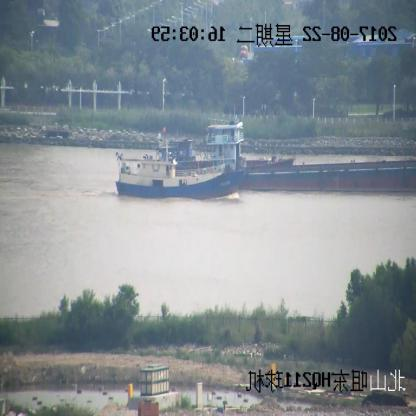Fishing Boat: (115, 127, 243, 200)
